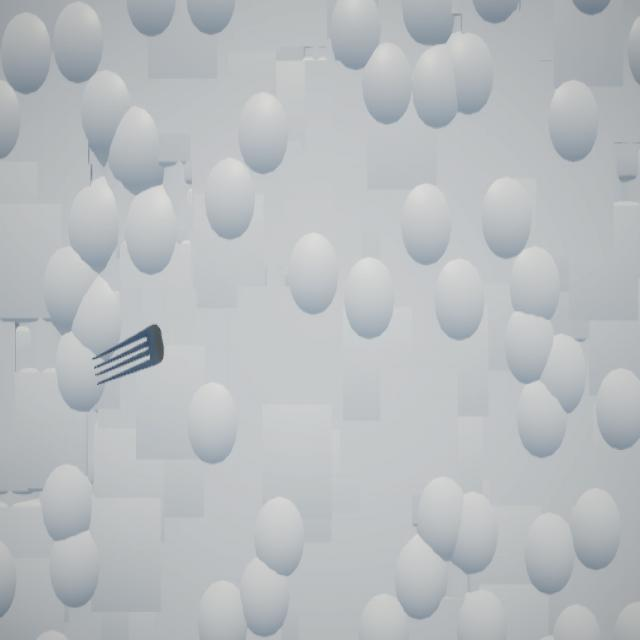top_folk: (94, 325, 166, 386)
